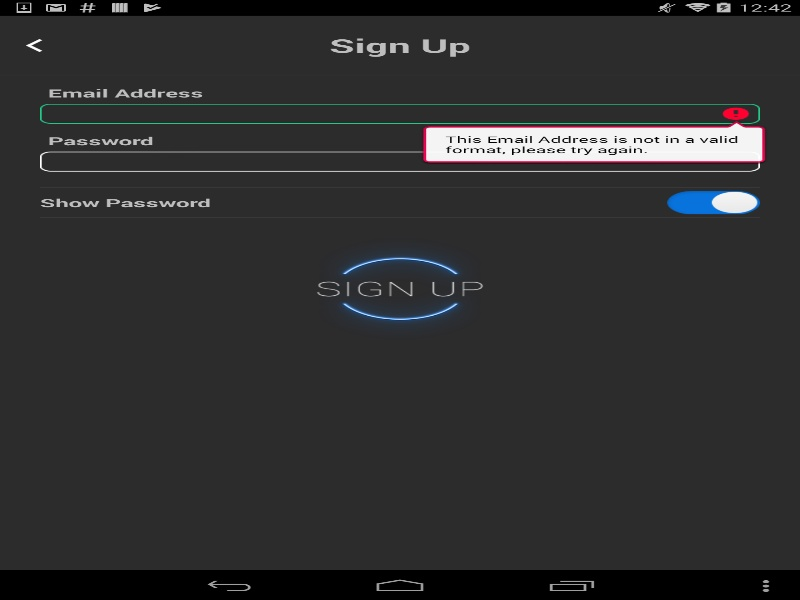Input: (40, 103, 760, 123), (40, 151, 760, 171)
